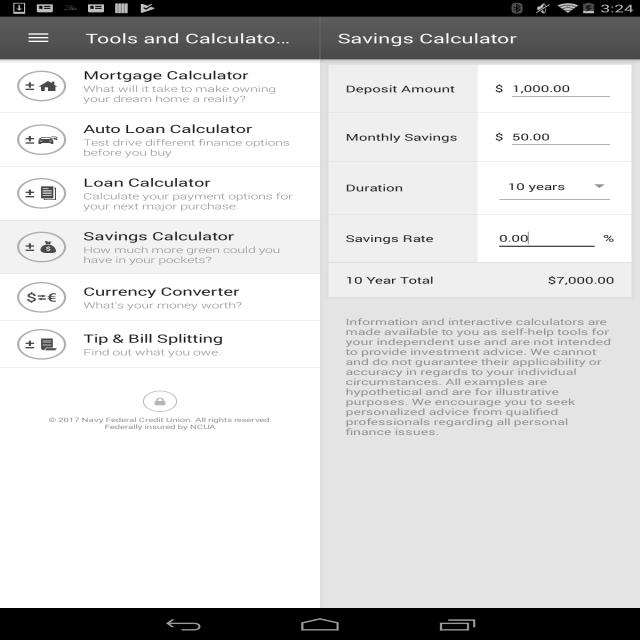EditText: (508, 75, 614, 102), (495, 225, 599, 252), (508, 124, 614, 150)
ImageButton: (9, 17, 68, 59)
ImageView: (17, 124, 83, 155), (17, 178, 83, 209), (17, 282, 83, 313), (17, 329, 83, 360), (17, 71, 83, 101), (17, 232, 83, 262), (143, 391, 177, 412), (328, 263, 632, 263)
Spinner: (495, 172, 614, 203)
TextView: (324, 310, 636, 438), (83, 243, 303, 266), (83, 82, 303, 104), (83, 136, 303, 158), (83, 190, 303, 212), (85, 29, 294, 47), (46, 415, 274, 431), (338, 29, 517, 47), (83, 67, 249, 83), (83, 121, 253, 136), (83, 228, 235, 244), (83, 284, 240, 299), (83, 331, 223, 346), (499, 175, 588, 198), (83, 175, 211, 190), (83, 299, 243, 311), (84, 346, 222, 358), (346, 82, 455, 95), (346, 131, 458, 143), (346, 232, 434, 245), (346, 274, 434, 286), (548, 274, 614, 286), (346, 181, 403, 194), (599, 232, 614, 244), (495, 82, 508, 95), (495, 130, 508, 143)
